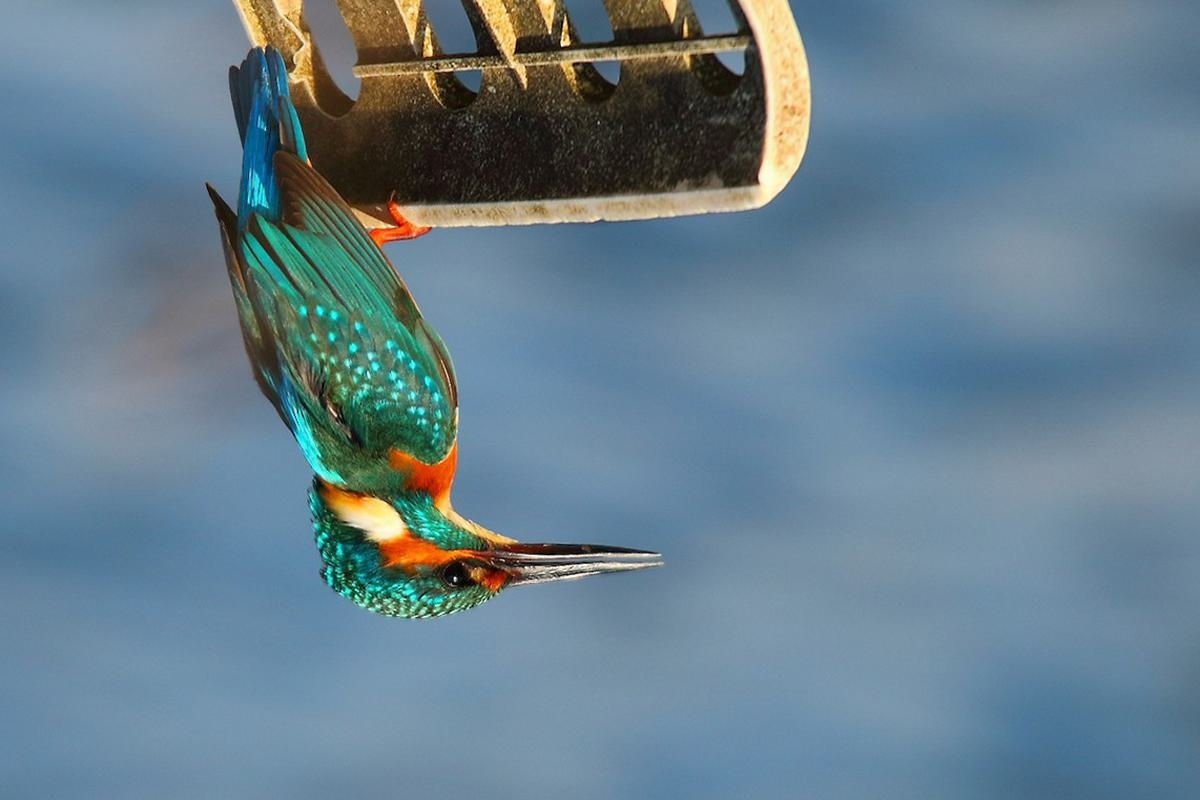kingfisher: (218, 63, 649, 657)
